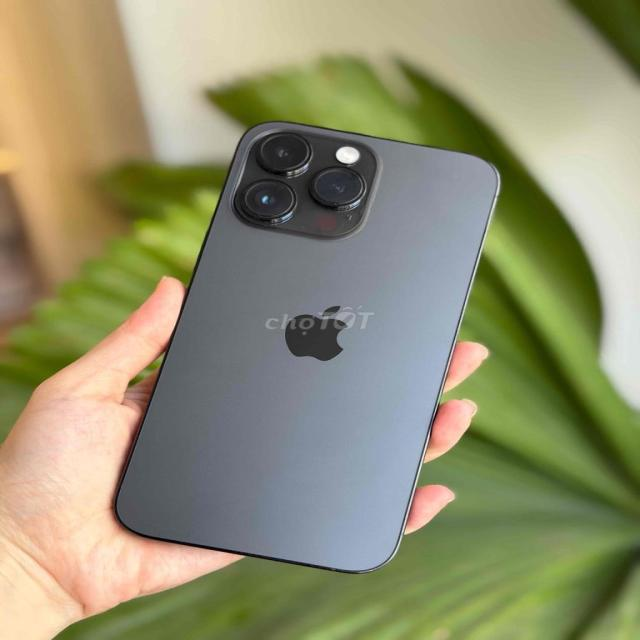gen_14: (114, 113, 504, 577)
